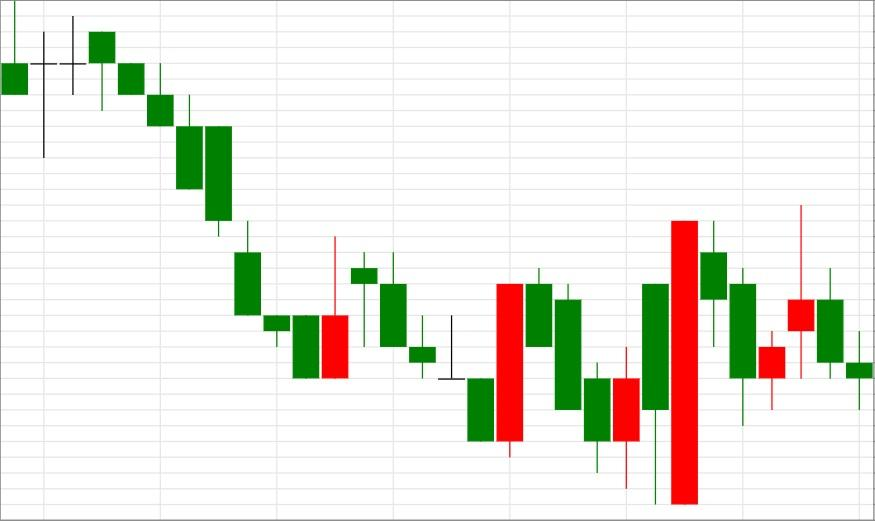bullish_engulfing_rise: (351, 250, 524, 458), (524, 267, 641, 488)
three_black_crows_fall: (0, 0, 175, 158), (292, 236, 437, 379)
